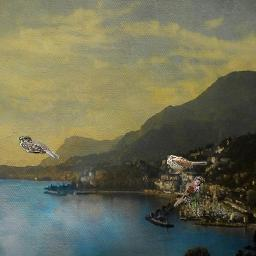Sparrow: (174, 176, 205, 216), (19, 136, 59, 159), (167, 155, 207, 174)
